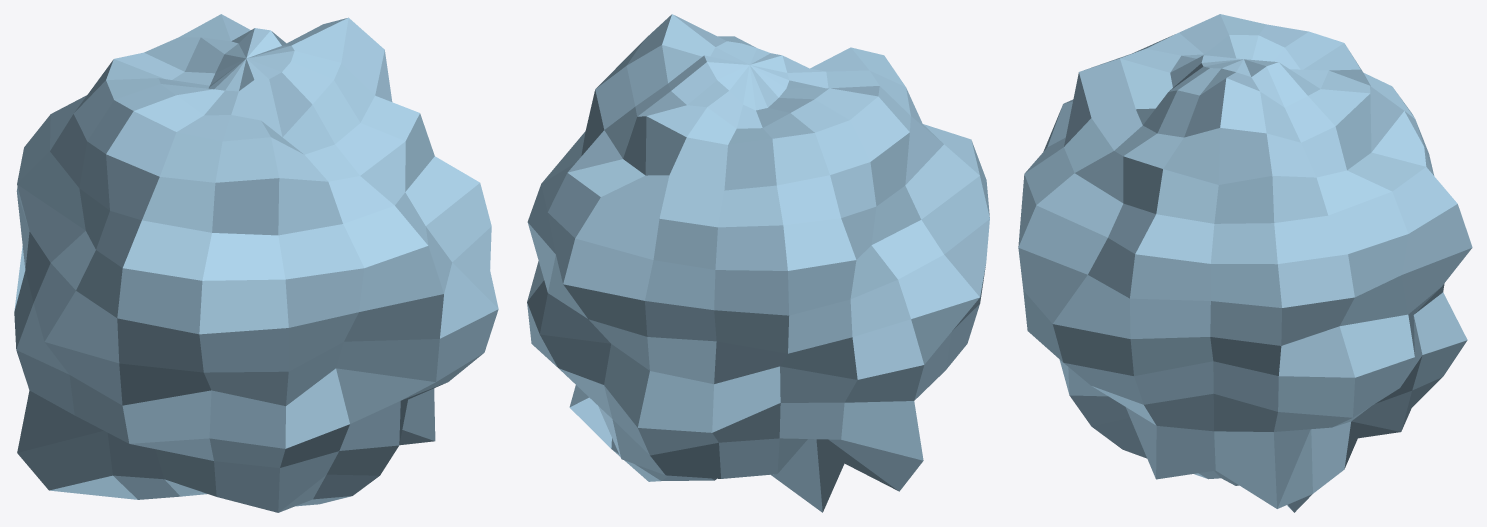
File: rotating_sphere.fbx
3 views of the same model, side by side, from view 1: azimuth 30°, elevation 25°; view 2: azimuth 150°, elevation 25°; view 3: azimuth 270°, elevation 25° (orthographic). The views are drawn at different scales.
Visible parts, largest first — view 1: Rotating Ball; view 2: Rotating Ball; view 3: Rotating Ball.
Part boxes in pixels (left/top/right/bottom): Rotating Ball: left=14, top=14, right=498, bottom=512; Rotating Ball: left=527, top=14, right=989, bottom=512; Rotating Ball: left=1018, top=14, right=1472, bottom=512.
Size of the model in its own units: 88.36 by 93.71 by 87.64.
